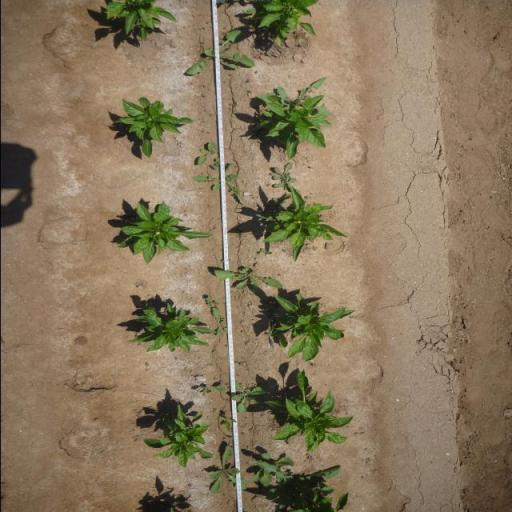plant: (264, 367, 356, 454), (253, 187, 348, 263), (113, 199, 215, 266), (268, 292, 358, 362), (121, 299, 217, 358), (112, 96, 197, 160), (255, 95, 332, 160), (140, 403, 214, 469), (244, 0, 321, 47), (101, 0, 179, 45), (282, 492, 349, 512)
weed: (183, 29, 256, 77), (259, 461, 343, 501), (255, 76, 331, 115), (188, 160, 244, 207), (209, 265, 285, 294), (204, 444, 247, 494), (247, 453, 294, 488), (229, 380, 268, 414), (270, 162, 296, 190), (211, 307, 227, 337), (196, 140, 214, 165), (216, 412, 236, 432), (196, 384, 227, 396), (272, 194, 290, 211), (204, 296, 220, 306), (210, 157, 220, 172), (256, 248, 272, 256), (285, 440, 292, 447), (211, 350, 219, 354), (299, 42, 305, 46)
